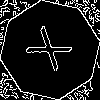X: (25, 25, 82, 79)
